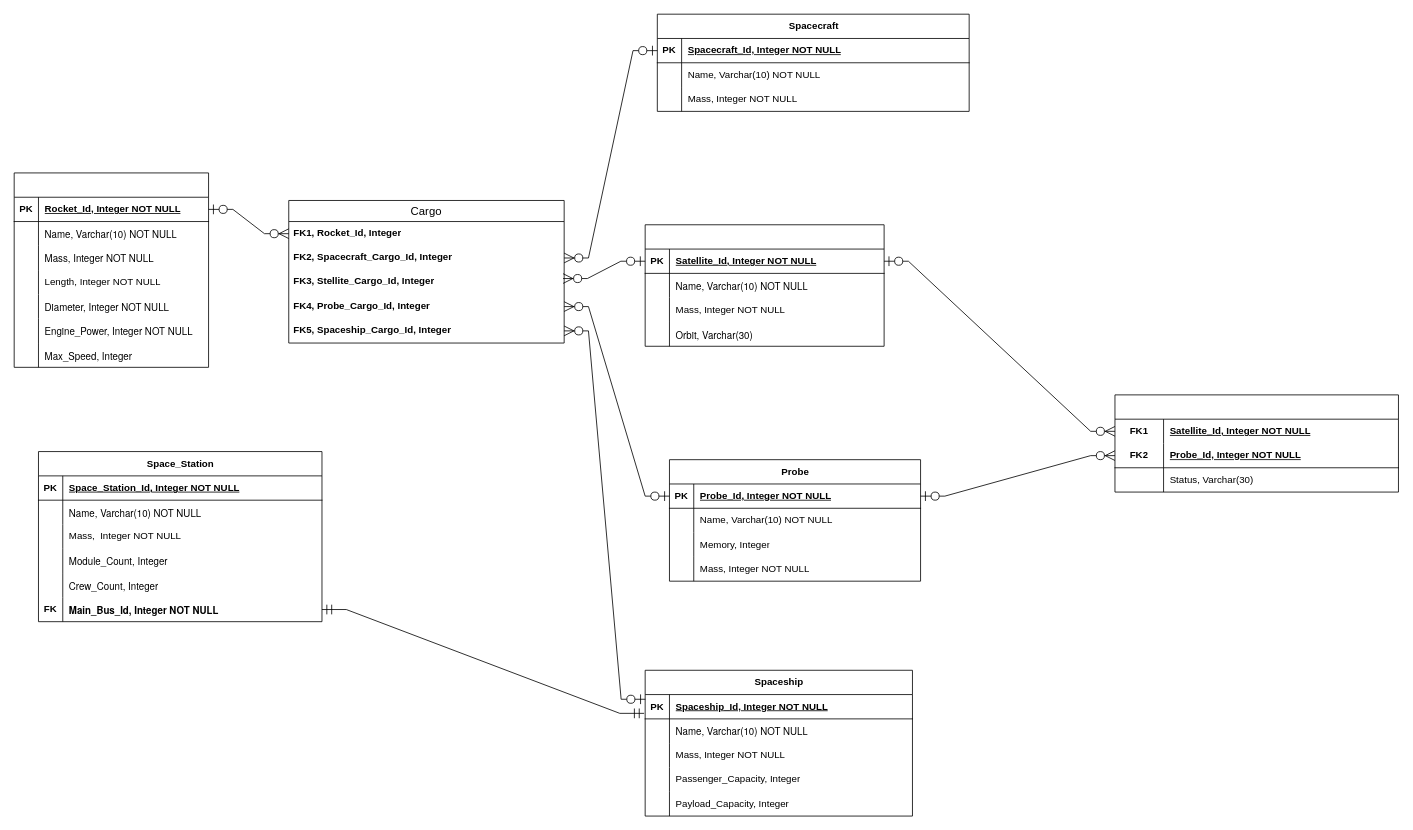
Image size: 1413x830. Some labels were removed from this diagram. Here are the shapes that lost their labels. From the top down, the box of each, then its label:
(13, 172, 209, 367): Rockets
(644, 224, 884, 346): Satellites
(1114, 394, 1398, 492): Analyse
